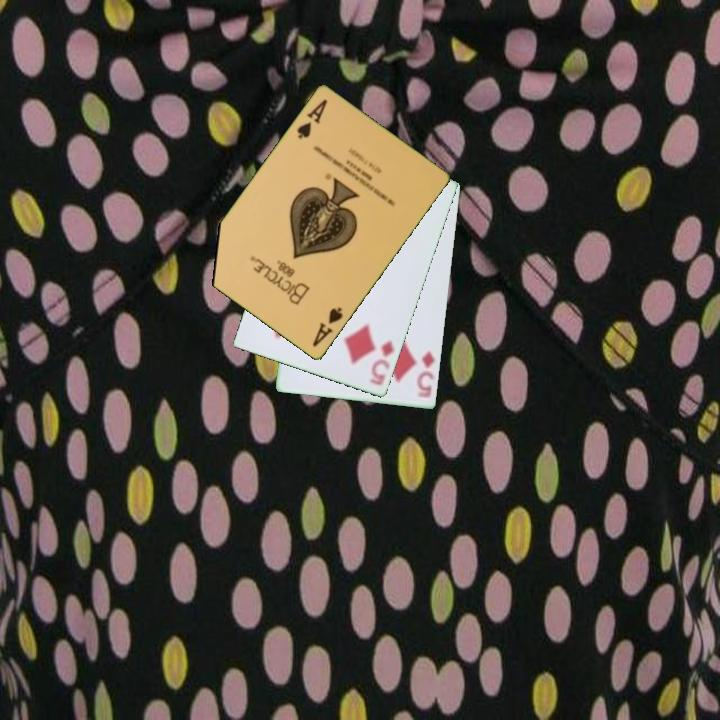5d: (366, 337, 397, 388), (413, 347, 437, 402)
As: (309, 304, 346, 350), (294, 96, 330, 142)
